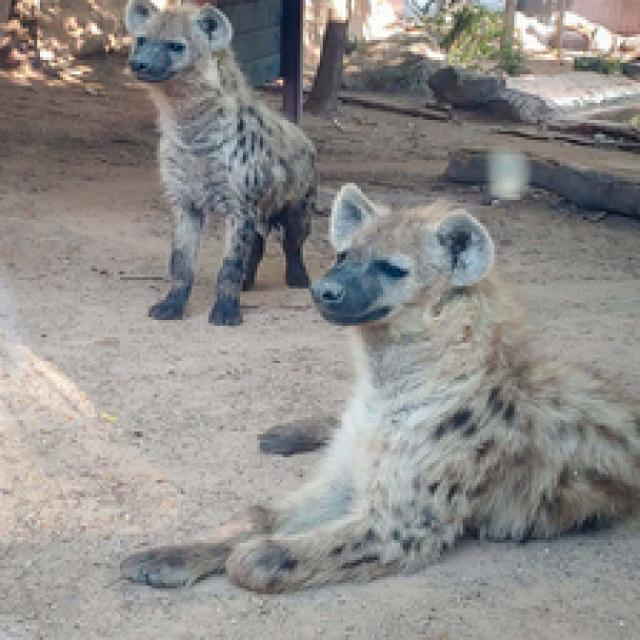hyena: (105, 178, 640, 594), (117, 2, 319, 304)
